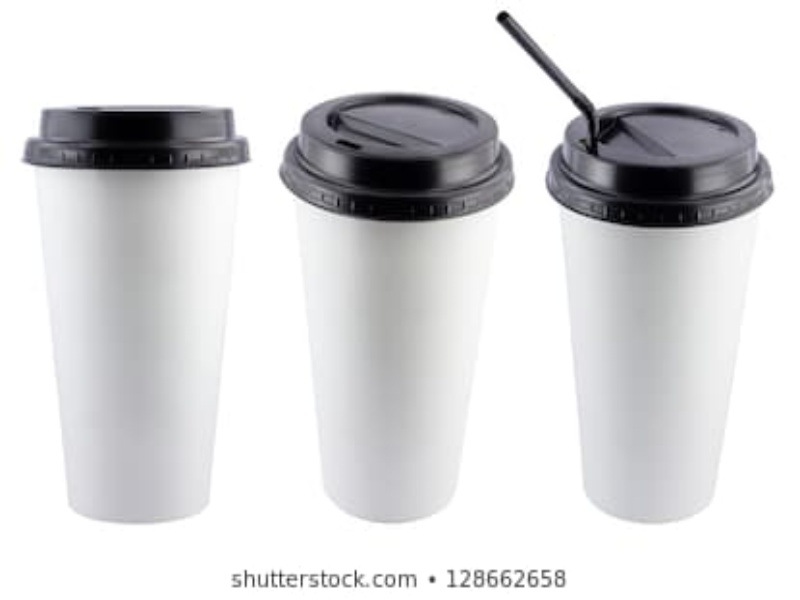coffee-lid: (277, 93, 517, 223), (543, 100, 777, 229), (20, 104, 255, 168)
plastic-cup: (20, 99, 256, 527), (544, 99, 780, 527), (277, 91, 513, 519)
straw: (496, 7, 608, 153)
